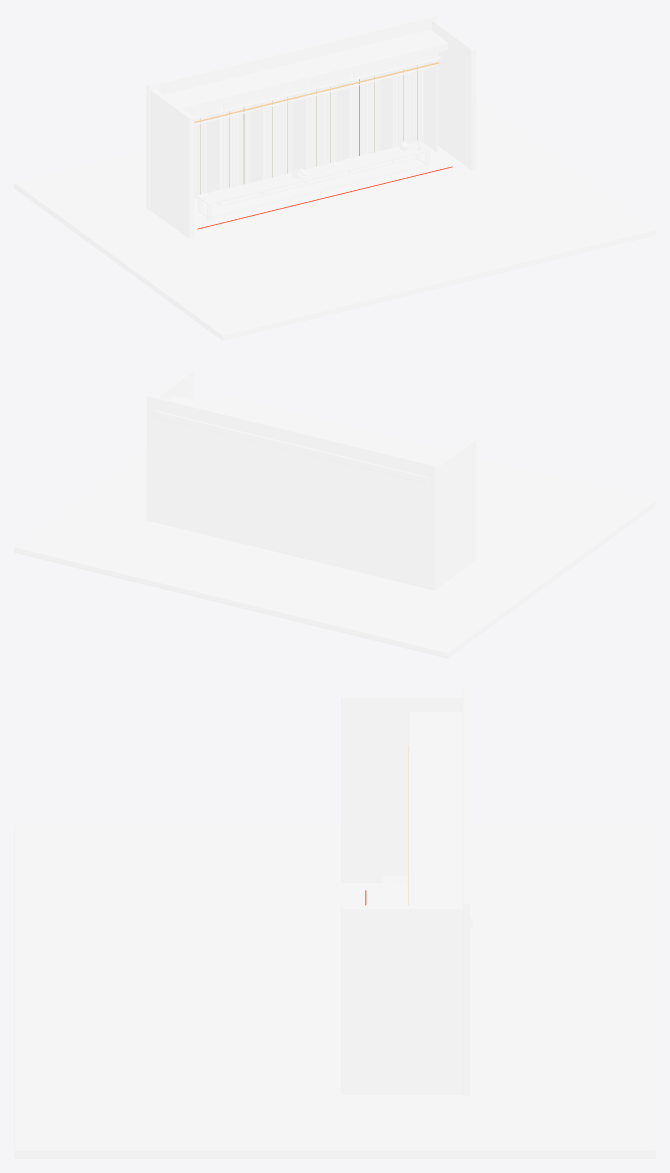
File: room.glb
3 renders of one model, top to bottom at view 1: azimuth 30°, elevation 25°; view 2: azimuth 150°, elevation 25°; view 3: azimuth 270°, elevation 25°, orthographic. The views are drawn at different scales.
Parts seen in each view (by area): view 1: FLOOR, WALLS, BENCH_RAIL, Slat bay LED opal diffuser 1 left, Warm overhead linear LED; view 2: FLOOR, WALLS; view 3: FLOOR, WALLS, BENCH_RAIL.
Boxes of the visible parts, <box> form: FLOOR: <box>14,98,655,340</box>; WALLS: <box>146,14,476,238</box>; BENCH_RAIL: <box>194,60,437,221</box>; Slat bay LED opal diffuser 1 left: <box>200,65,417,194</box>; Warm overhead linear LED: <box>194,62,439,122</box>; FLOOR: <box>14,394,655,658</box>; WALLS: <box>146,369,476,590</box>; FLOOR: <box>14,824,655,1158</box>; WALLS: <box>341,687,472,1095</box>; BENCH_RAIL: <box>383,875,408,905</box>.
Bounding box in the file's own units: 12 × 3.46 × 10.
Materials: 8 (1 with a texture image).
